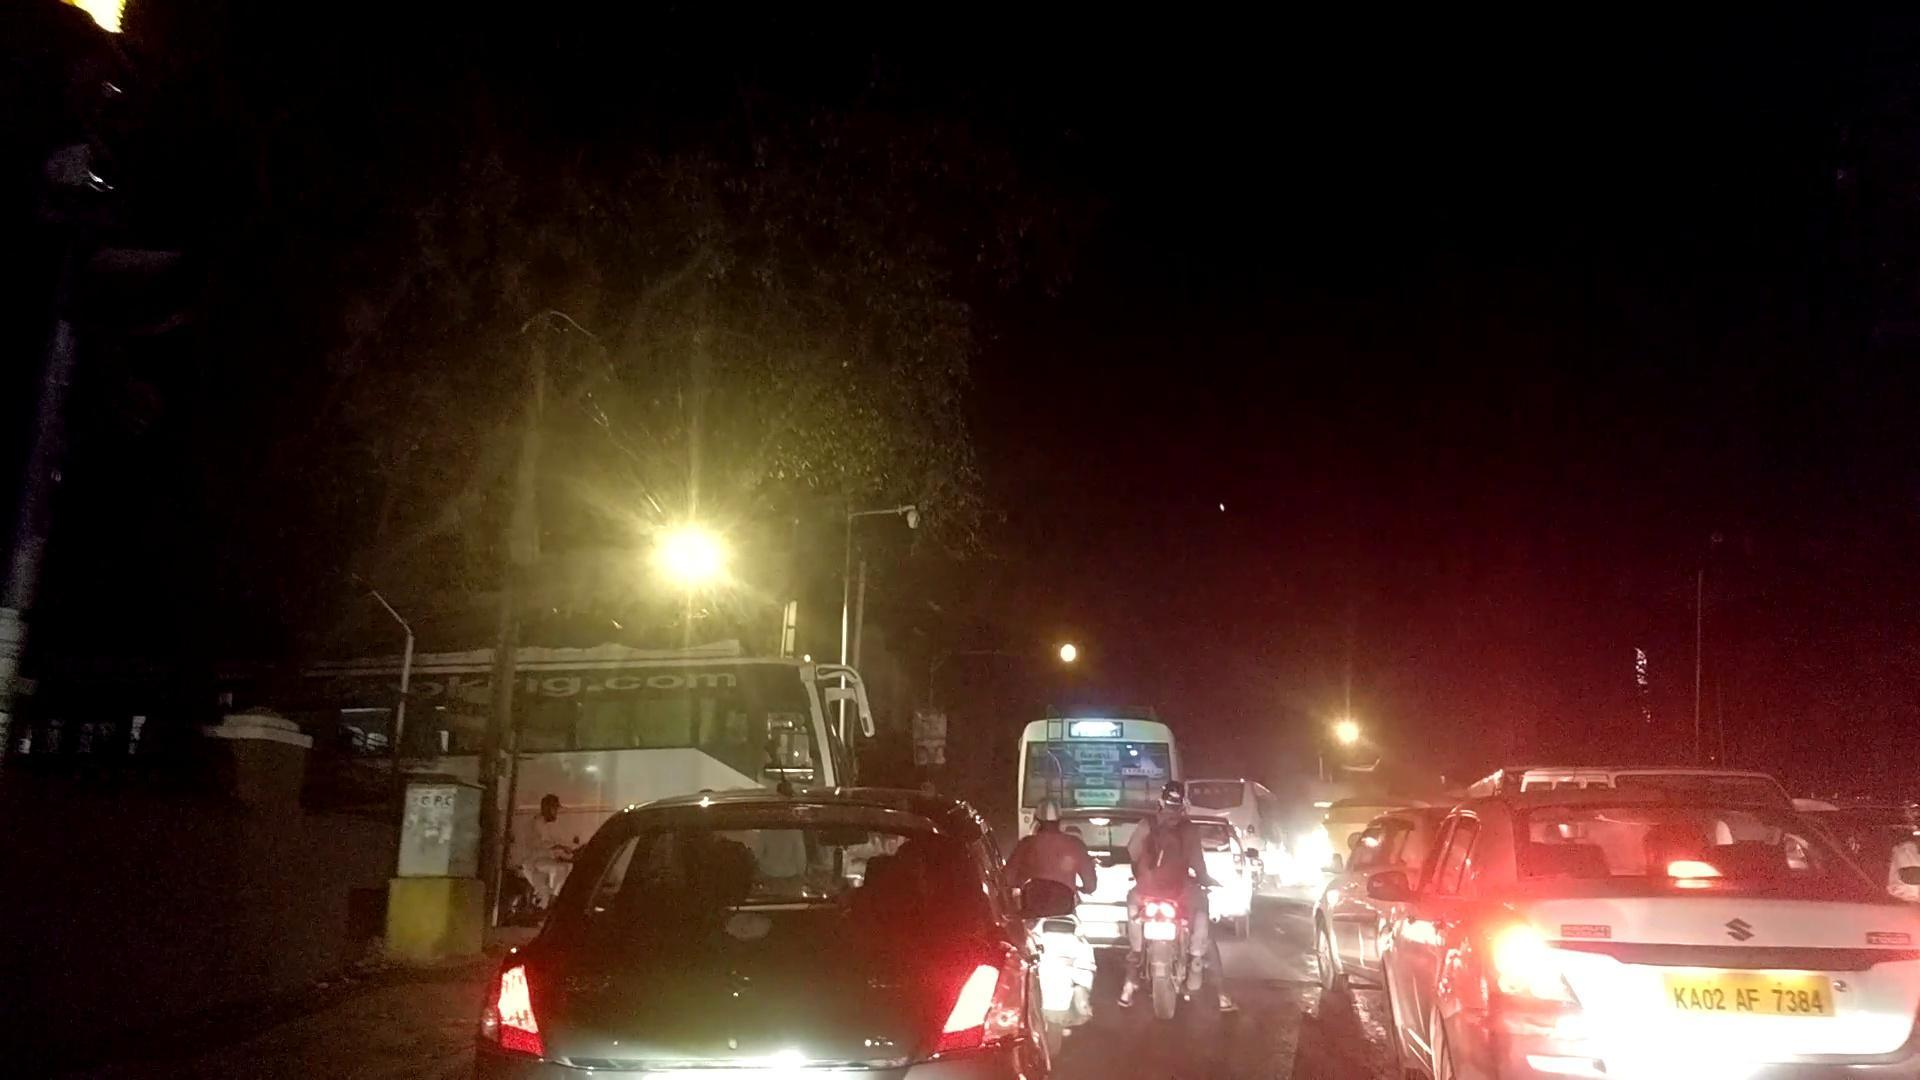on: (510, 252, 927, 771)
